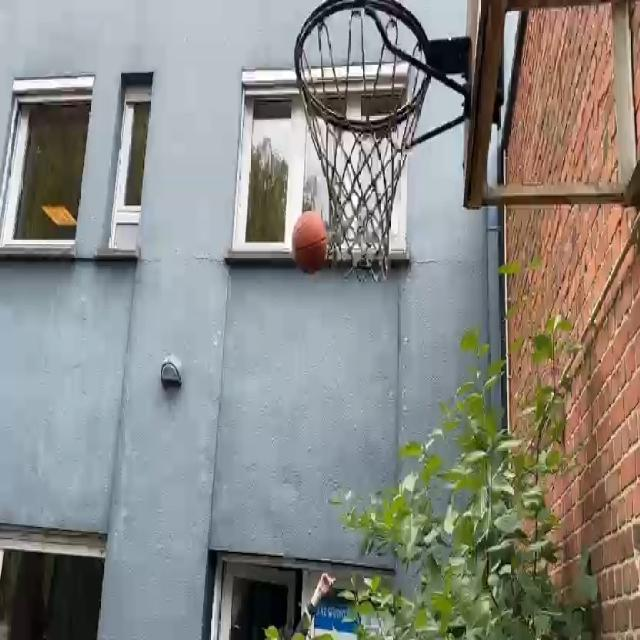Basketball: (294, 212, 329, 274)
